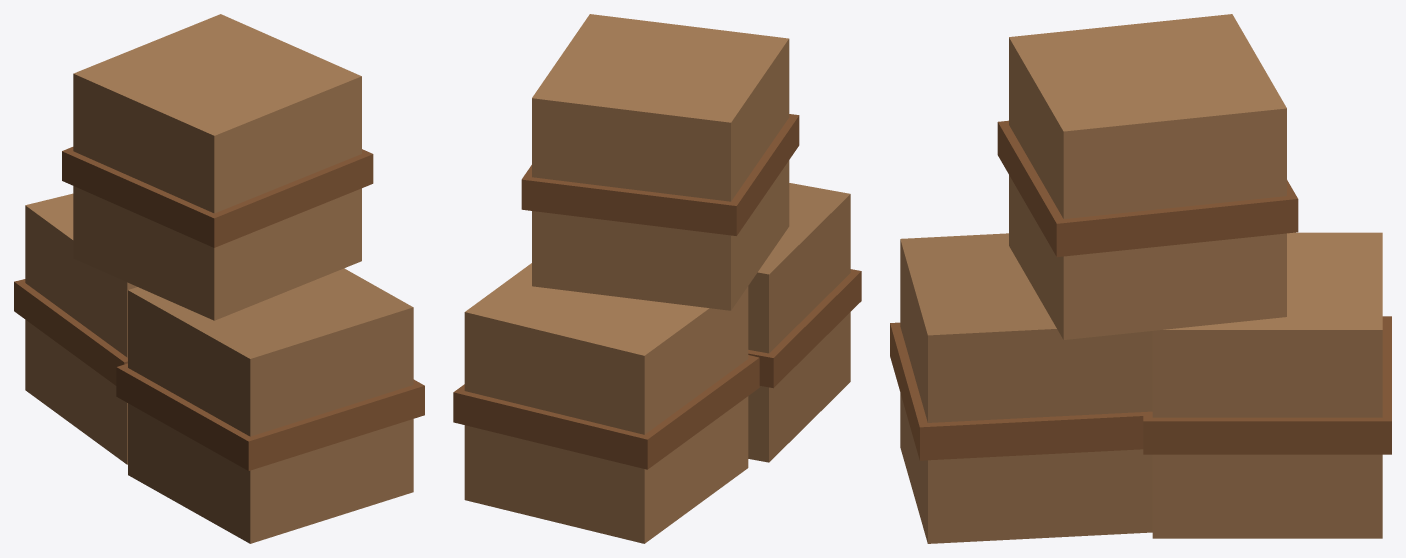
The model's file is crates.fbx.
The picture shows the model from 3 angles, left to right: view 1: azimuth 30°, elevation 25°; view 2: azimuth 150°, elevation 25°; view 3: azimuth 270°, elevation 25°; orthographic projection. The views are drawn at different scales.
Visible parts, largest first — view 1: crates; view 2: crates; view 3: crates.
Boxes of the visible parts, x1,y1,x2,y2 form: crates: (14,14,424,543); crates: (453,14,861,543); crates: (890,14,1391,543).
Bounding box in the file's own units: 0.0576 × 0.0882 × 0.0962.
